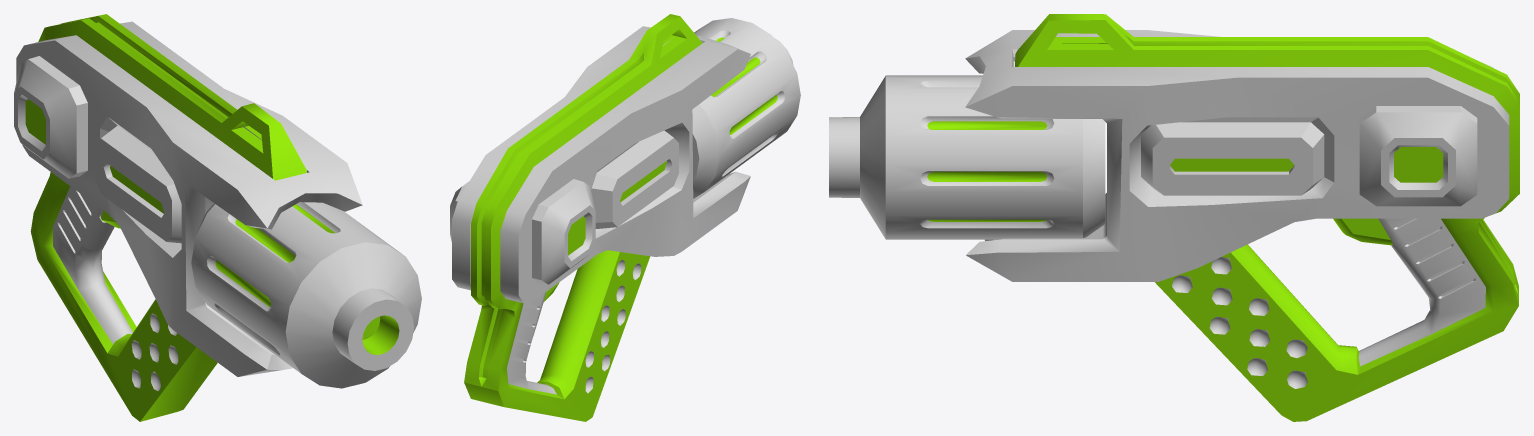
Rendered from Pistol E Mat.fbx.
3 renders of one model, left to right at view 1: azimuth 30°, elevation 25°; view 2: azimuth 150°, elevation 25°; view 3: azimuth 270°, elevation 25°, orthographic. The views are drawn at different scales.
Parts seen in each view (by area): view 1: Pistol E Mat, Pistol E Mat.001; view 2: Pistol E Mat, Pistol E Mat.001; view 3: Pistol E Mat, Pistol E Mat.001.
Boxes of the visible parts, x1,y1,x2,y2 form: Pistol E Mat: [14, 14, 362, 421]; Pistol E Mat.001: [191, 202, 421, 388]; Pistol E Mat: [450, 14, 750, 421]; Pistol E Mat.001: [692, 18, 800, 198]; Pistol E Mat: [965, 14, 1519, 421]; Pistol E Mat.001: [829, 75, 1105, 239].
Size of the model in its own units: 0.203 by 0.5374 by 0.8516.
